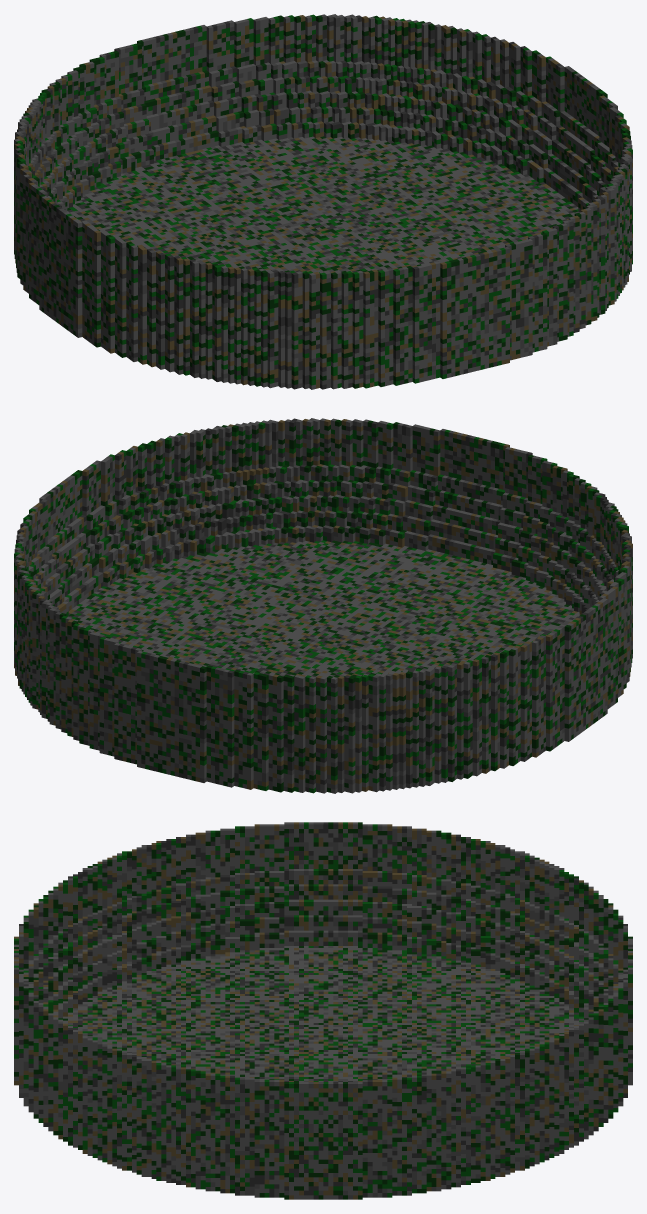
Rendered from ARENA-1.obj.
3 renders of one model, top to bottom at view 1: azimuth 30°, elevation 25°; view 2: azimuth 150°, elevation 25°; view 3: azimuth 270°, elevation 25°, orthographic.
Visible parts, largest first — view 1: ARENA-1; view 2: ARENA-1; view 3: ARENA-1.
Part boxes in pixels (box(x1,y1,x2,y2)): ARENA-1: box(14, 14, 632, 389); ARENA-1: box(14, 418, 632, 793); ARENA-1: box(14, 822, 632, 1199).
Bounding box in the file's own units: 126 × 26 × 126.
Materials: 1 (1 with a texture image).
